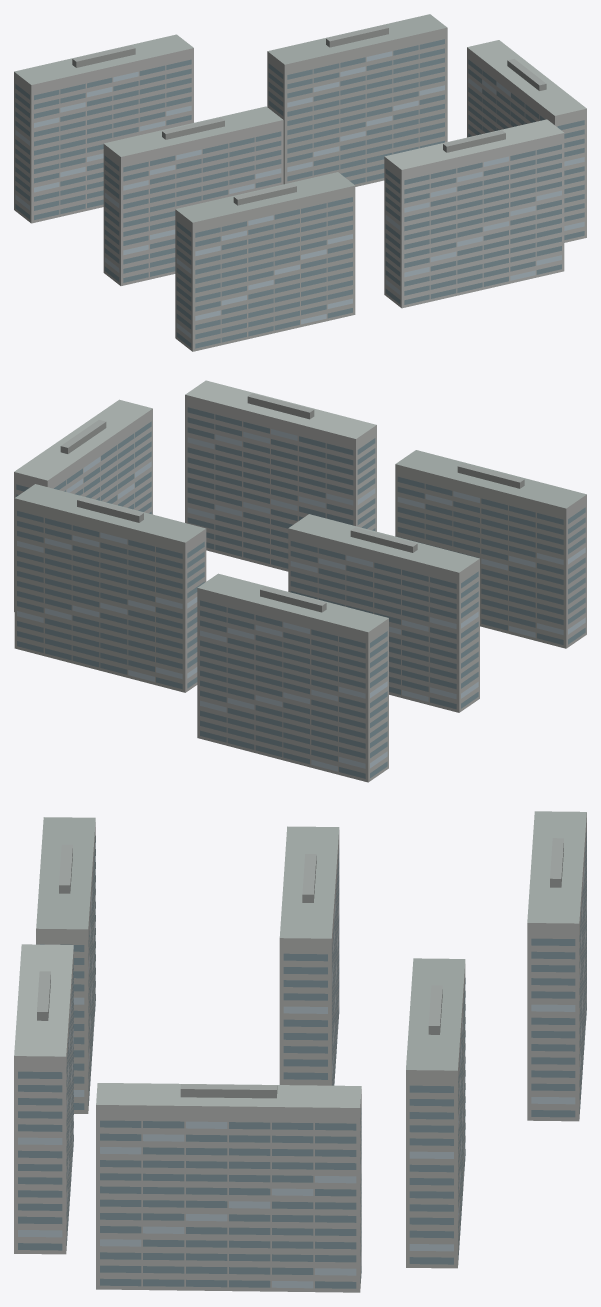
The model's file is apt-a13922111.glb.
3 renders of one model, top to bottom at view 1: azimuth 30°, elevation 25°; view 2: azimuth 150°, elevation 25°; view 3: azimuth 270°, elevation 25°, orthographic. The views are drawn at different scales.
Visible parts, largest first — view 1: apt-a13922111; view 2: apt-a13922111; view 3: apt-a13922111.
Part boxes in pixels (x1,y1,x2,y2): apt-a13922111: (14, 14, 586, 351); apt-a13922111: (14, 380, 586, 782); apt-a13922111: (14, 811, 586, 1292).
Bounding box in the file's own units: 144 × 47.81 × 120.
